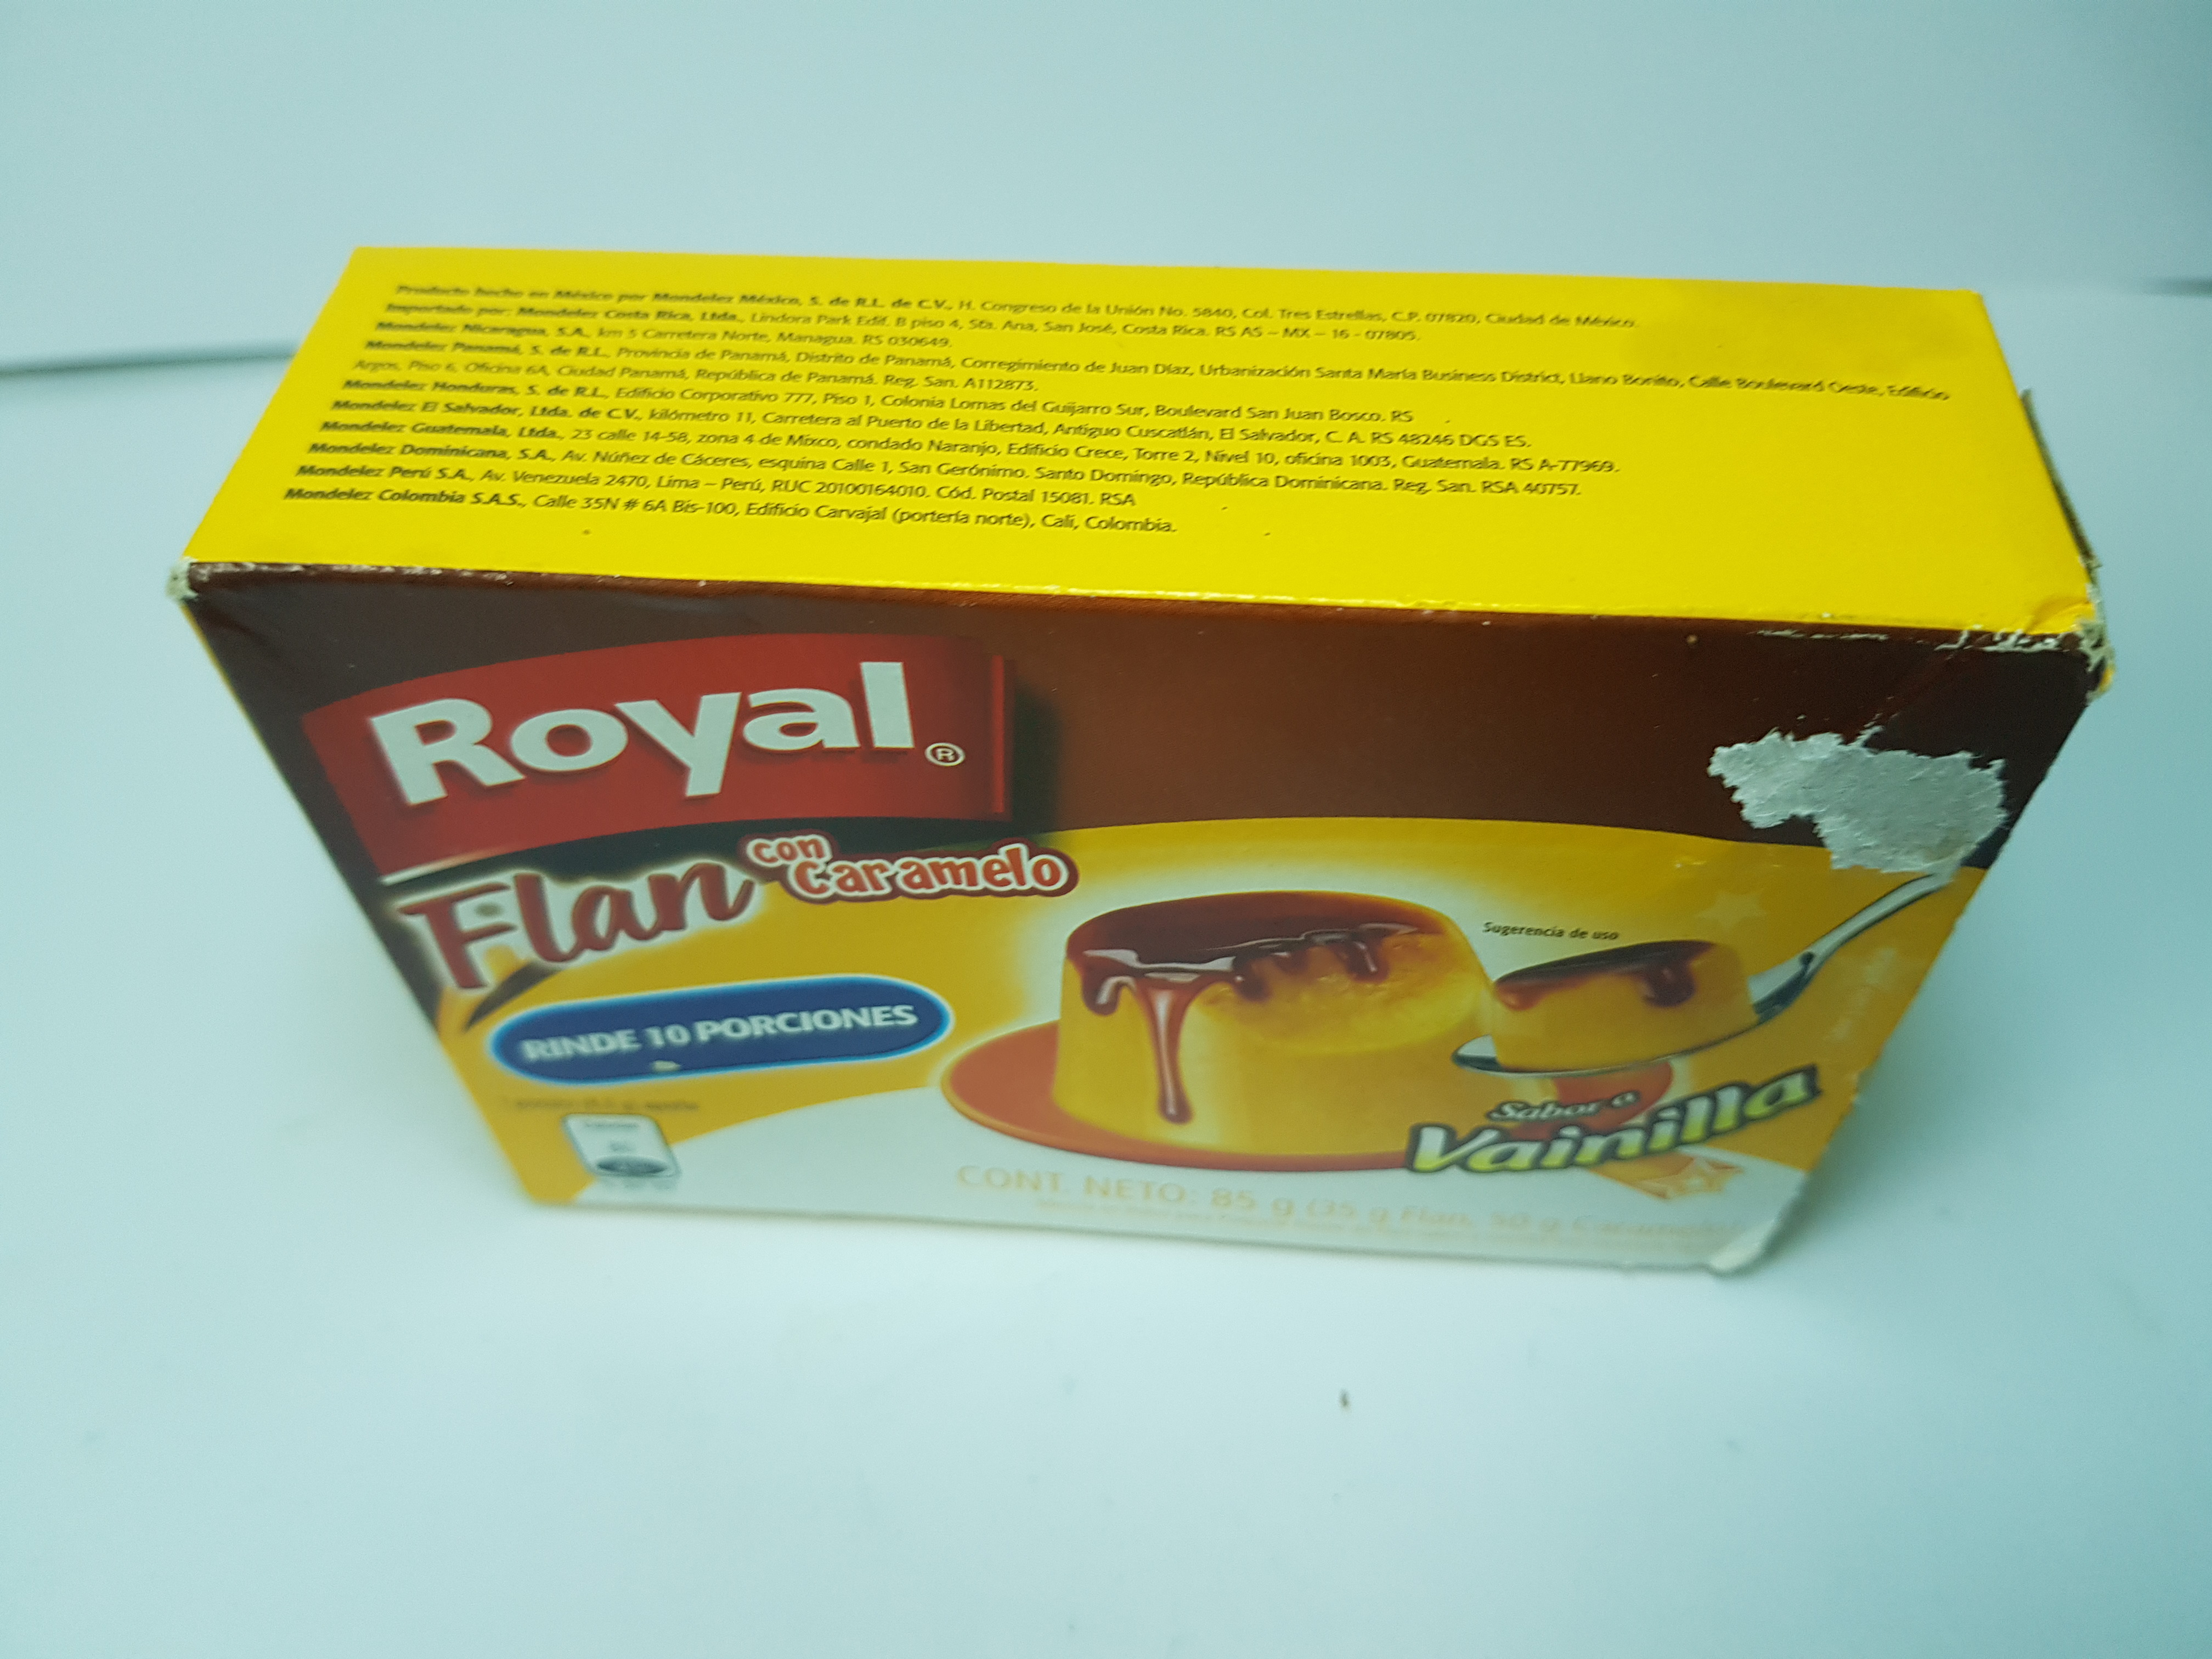flan: (153, 195, 2114, 1281)
